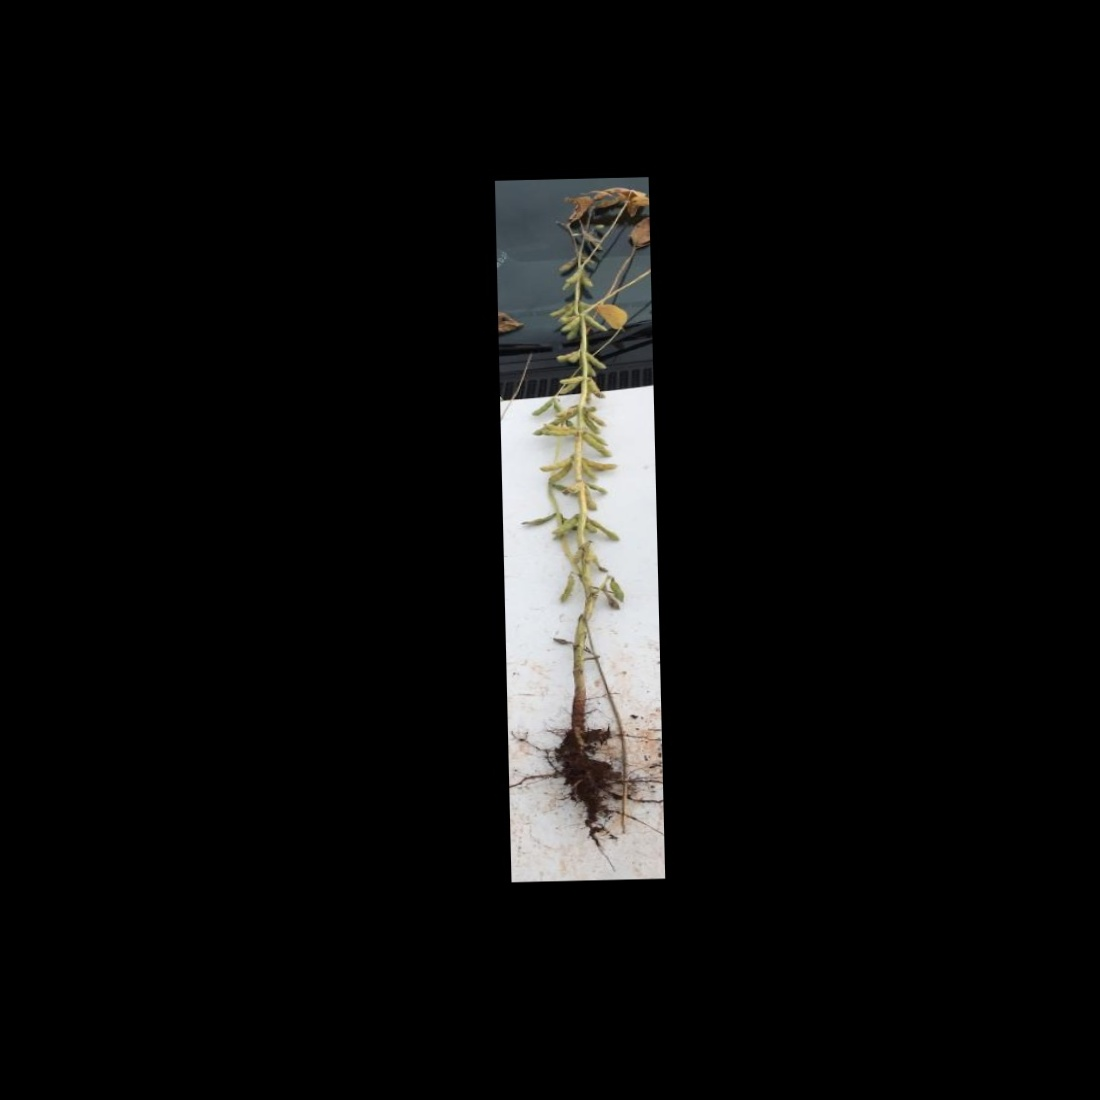pod: (554, 570, 582, 606), (518, 510, 556, 529), (582, 313, 612, 335), (544, 463, 575, 485), (608, 578, 635, 603), (586, 377, 609, 400), (527, 398, 552, 417), (555, 253, 578, 273), (584, 351, 607, 370), (583, 490, 601, 512), (584, 482, 610, 494), (580, 461, 595, 482), (557, 374, 584, 385)
soy: (498, 196, 655, 849)
